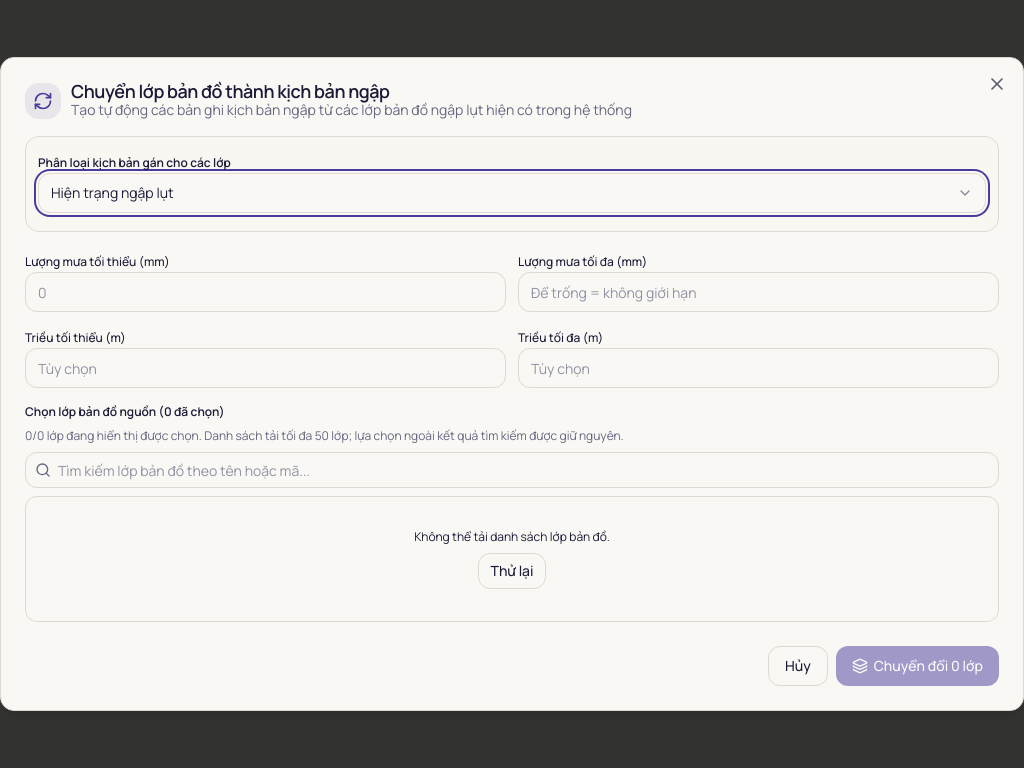
it: KttvConvertFromLayersDialog selection › does not treat a failed layer query as an empty result
Expected: the text "Không thể tải danh sách lớp bản đồ." is shown, [414,528,610,545]
Click the button "Thử lại" at [512, 571], box [478,553,546,589]
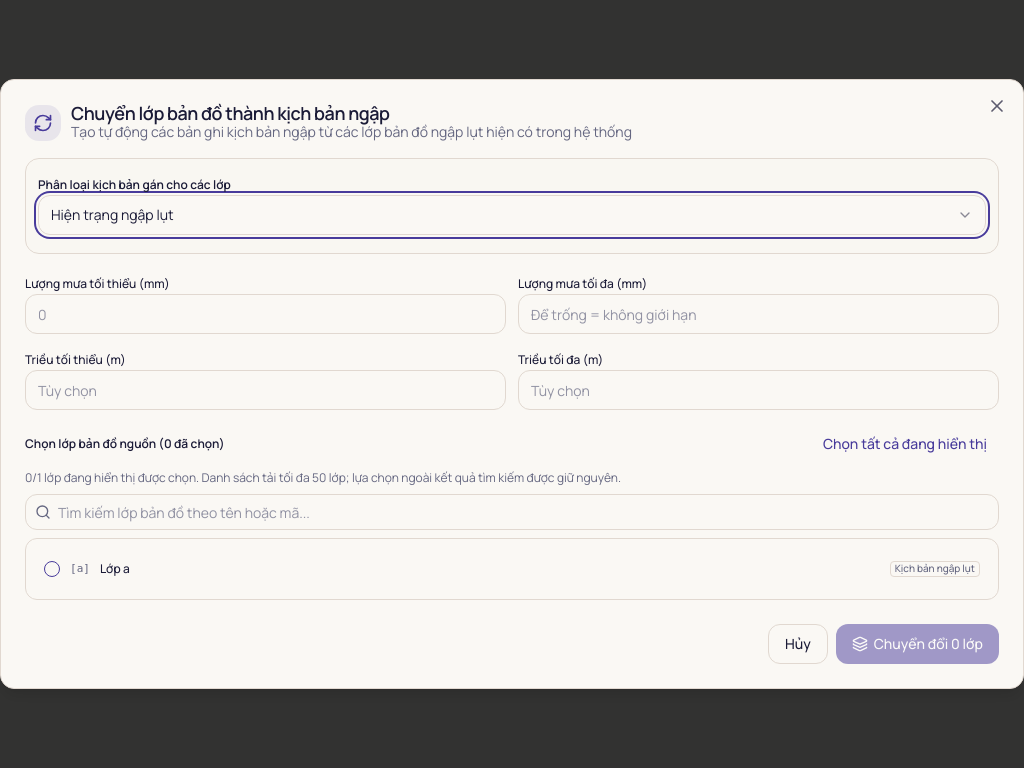
Expected: the text "Lớp a" is shown, [100,560,130,577]
